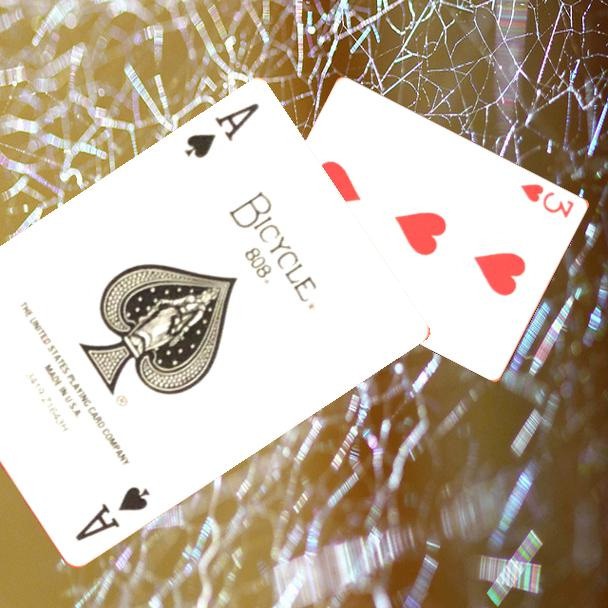h03: (517, 180, 577, 221)
s01: (180, 98, 262, 161), (72, 482, 153, 544)
